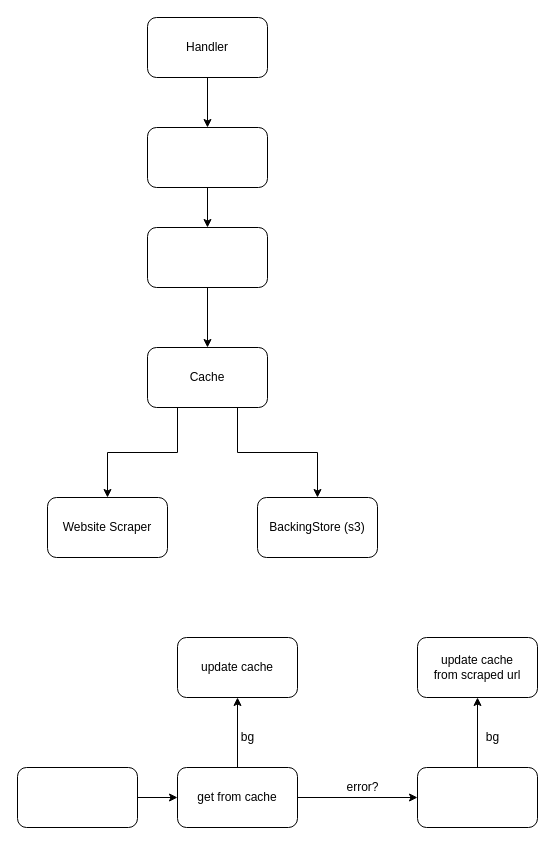
The diagram is 555 pixels wide and 845 high, and some of its shapes have lost their labels. The shapes that lost their labels are listed below. From the top down, each one's box as (x1, y1, x2, y2) in pixels, then its label:
(146, 126, 268, 188): Controller
(146, 226, 268, 288): Service
(16, 766, 138, 828): START
(416, 766, 538, 828): get from scraping
